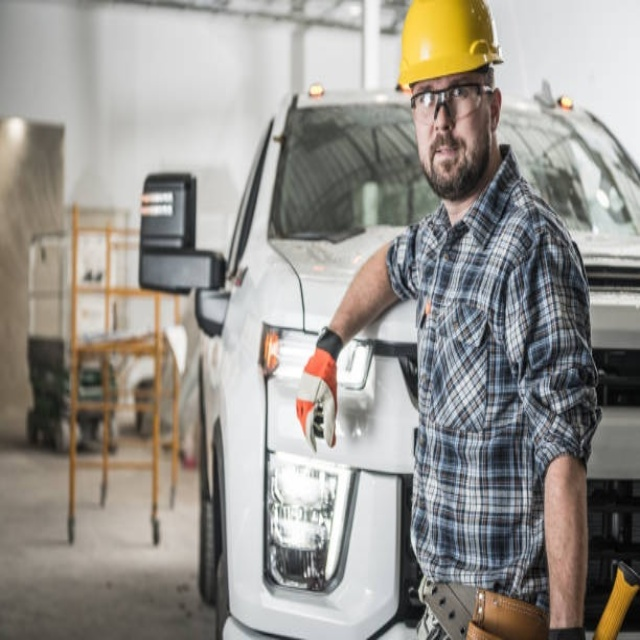Gafas: (408, 80, 493, 119)
Guantes: (295, 328, 342, 454)
Sin_mascara: (427, 133, 466, 184)
